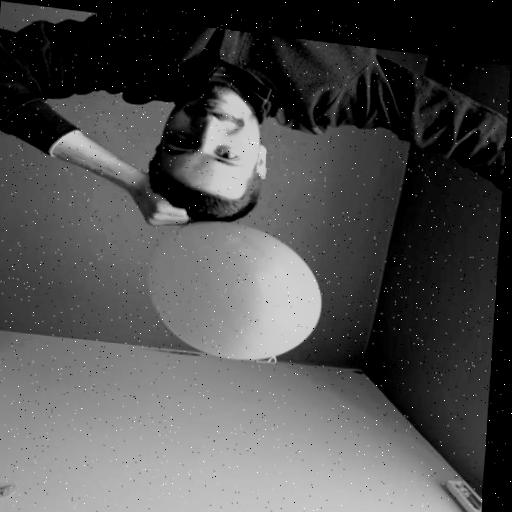balloon: (139, 210, 327, 368)
